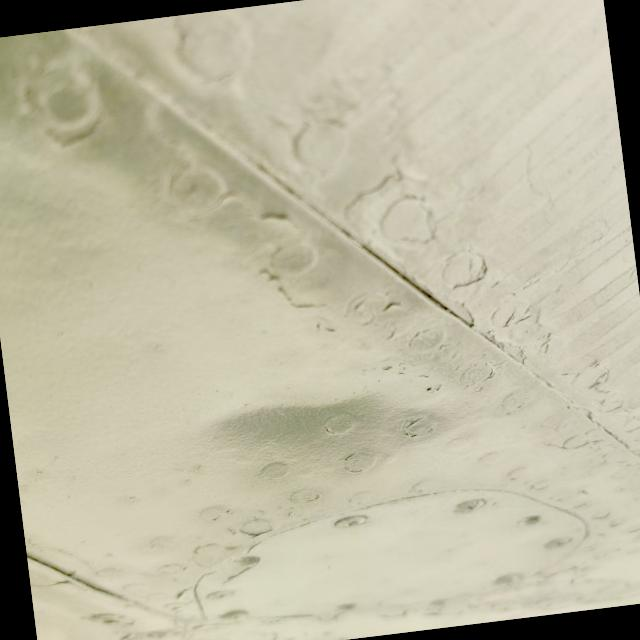dent: (160, 337, 452, 530)
